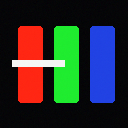3 line_h: (12, 60, 64, 66)
